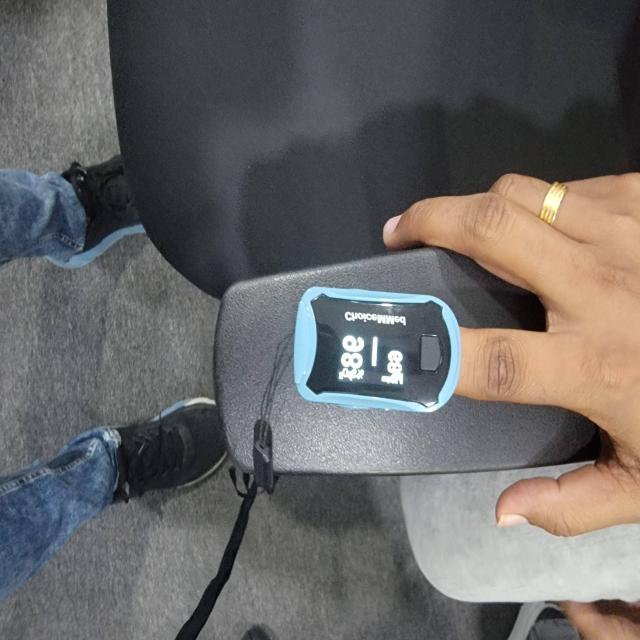spo2: (284, 287, 463, 417)
